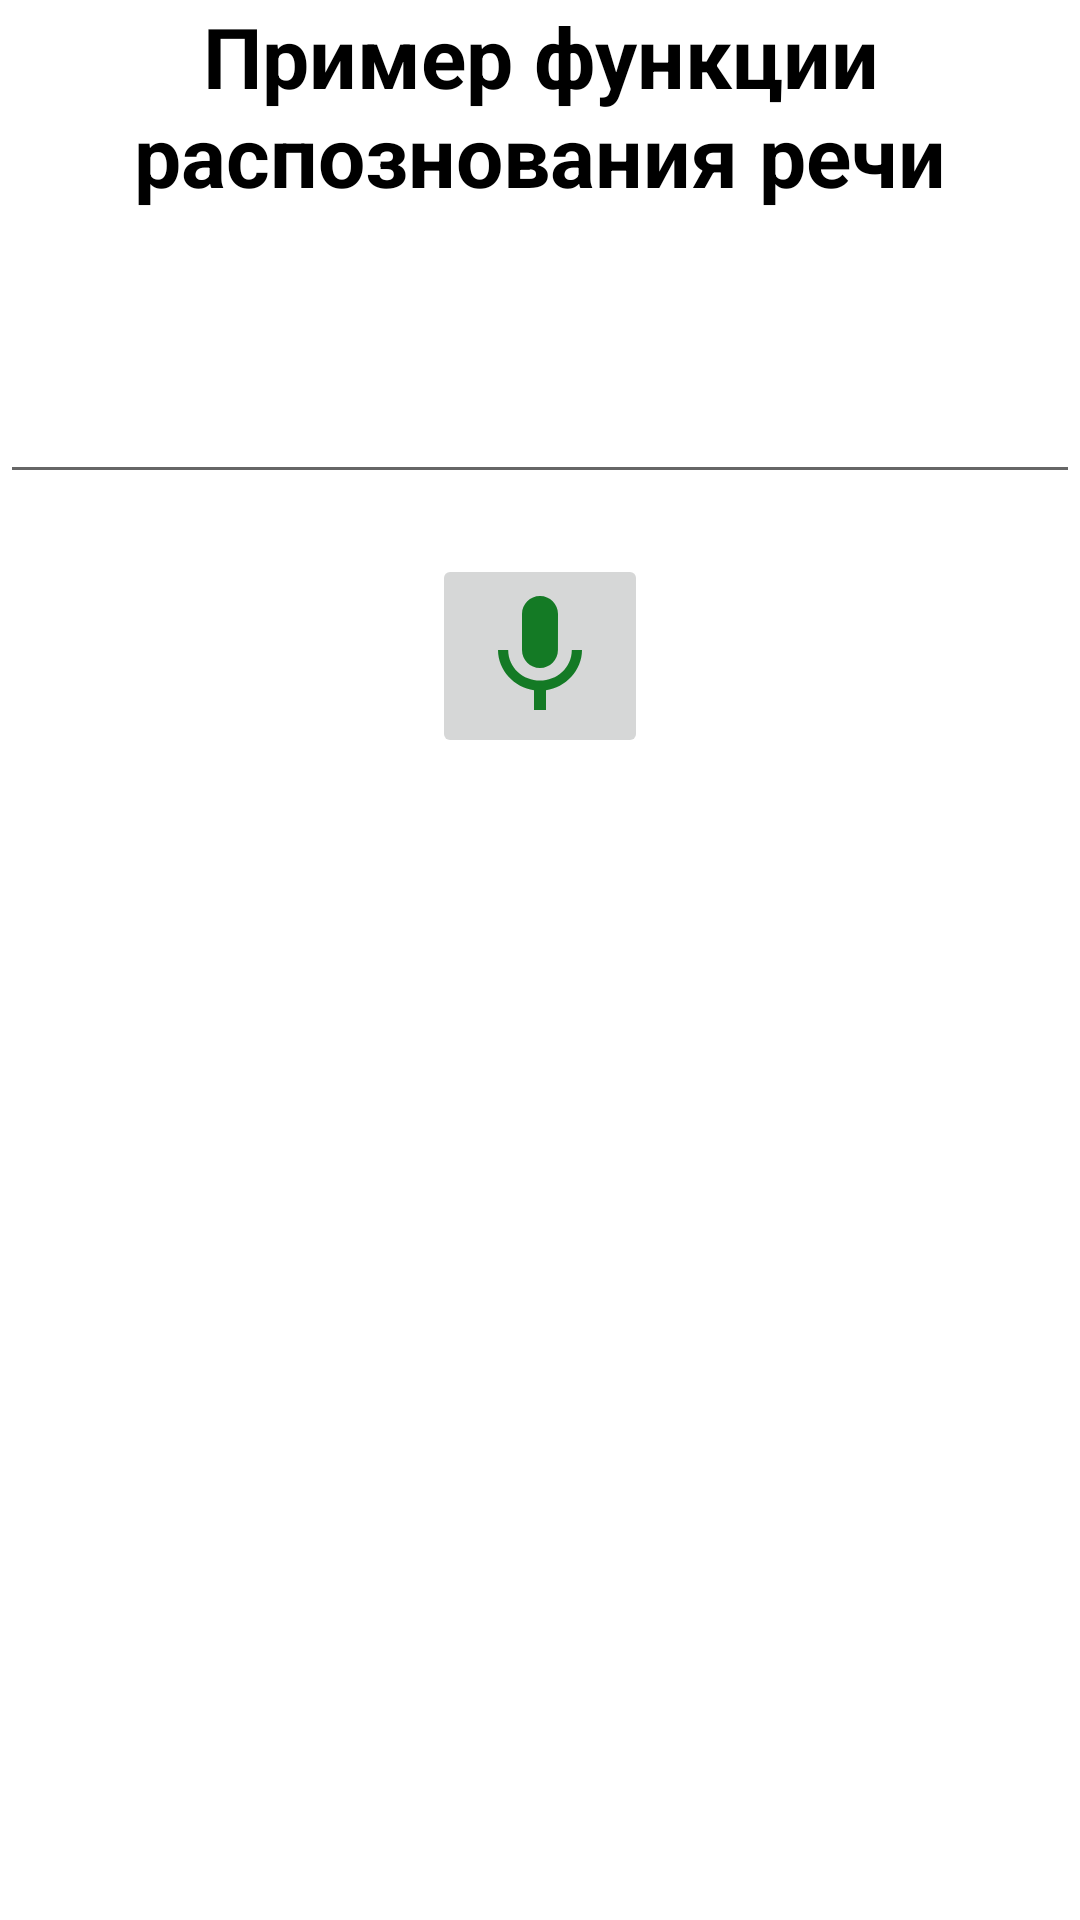

Screen size 1080w x 1920h. Icon name, then its center in pixels as [x,y]:
mic: [540,656]
